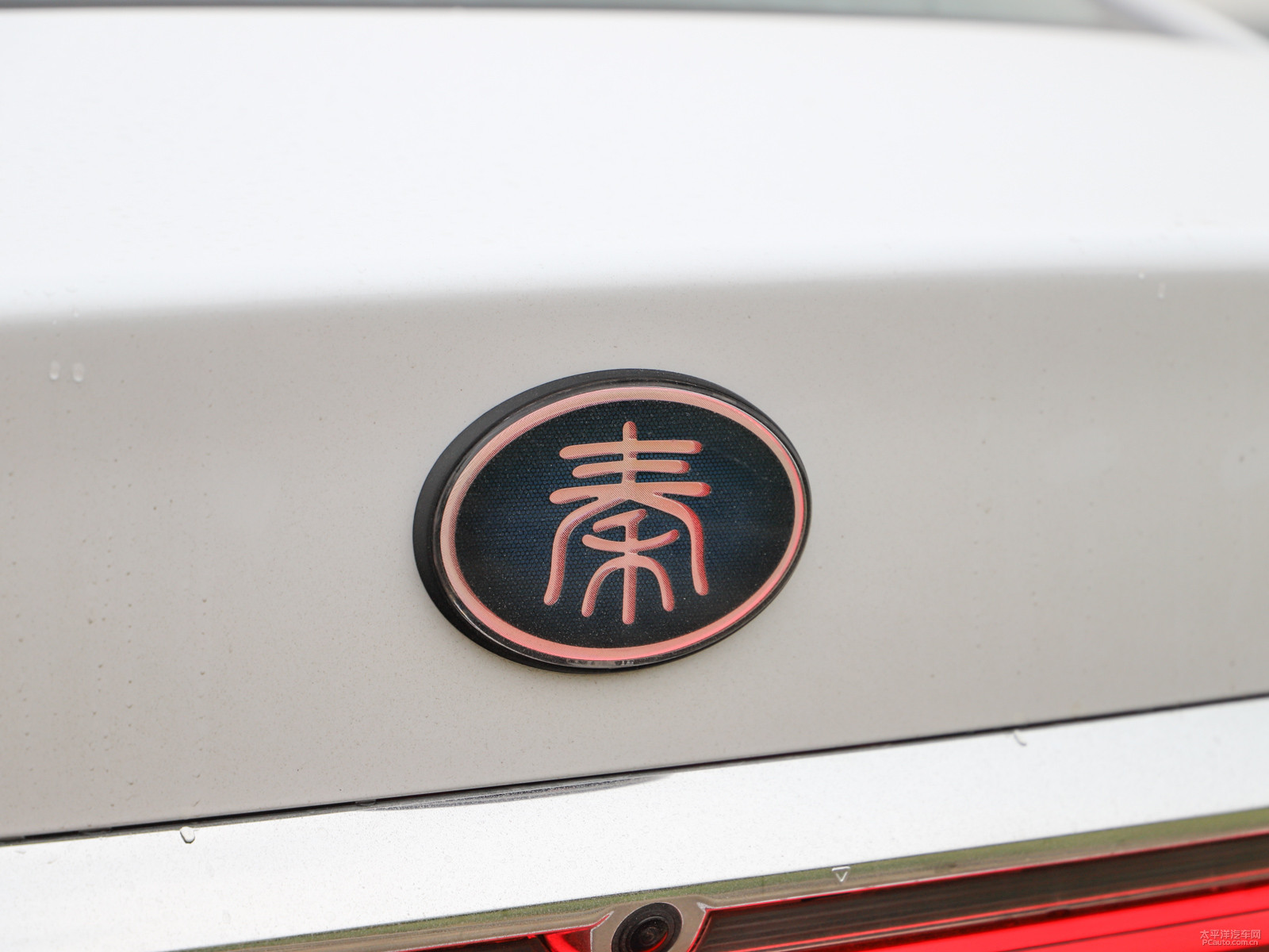BYD Qin: (415, 370, 803, 667)
